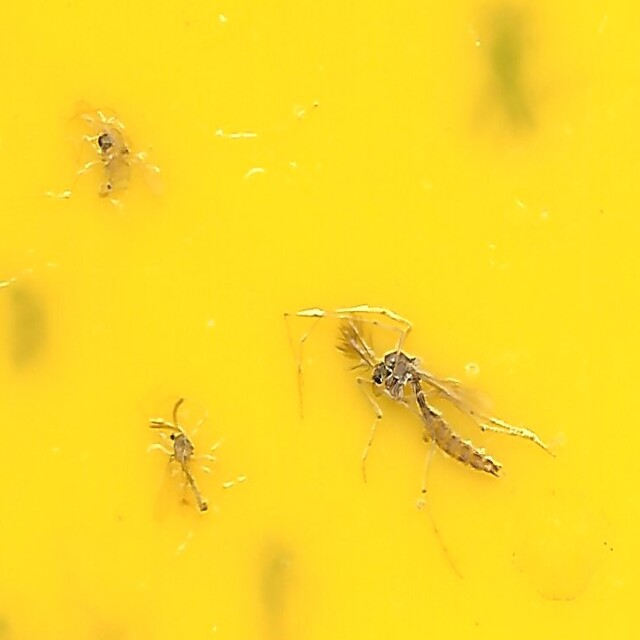Nematocera: (326, 297, 554, 503), (147, 399, 227, 527), (86, 113, 158, 203)
